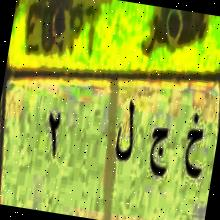2: (38, 106, 66, 170)
jeem: (142, 120, 175, 183)
khaa: (176, 105, 210, 190)
laam: (109, 95, 141, 164)
